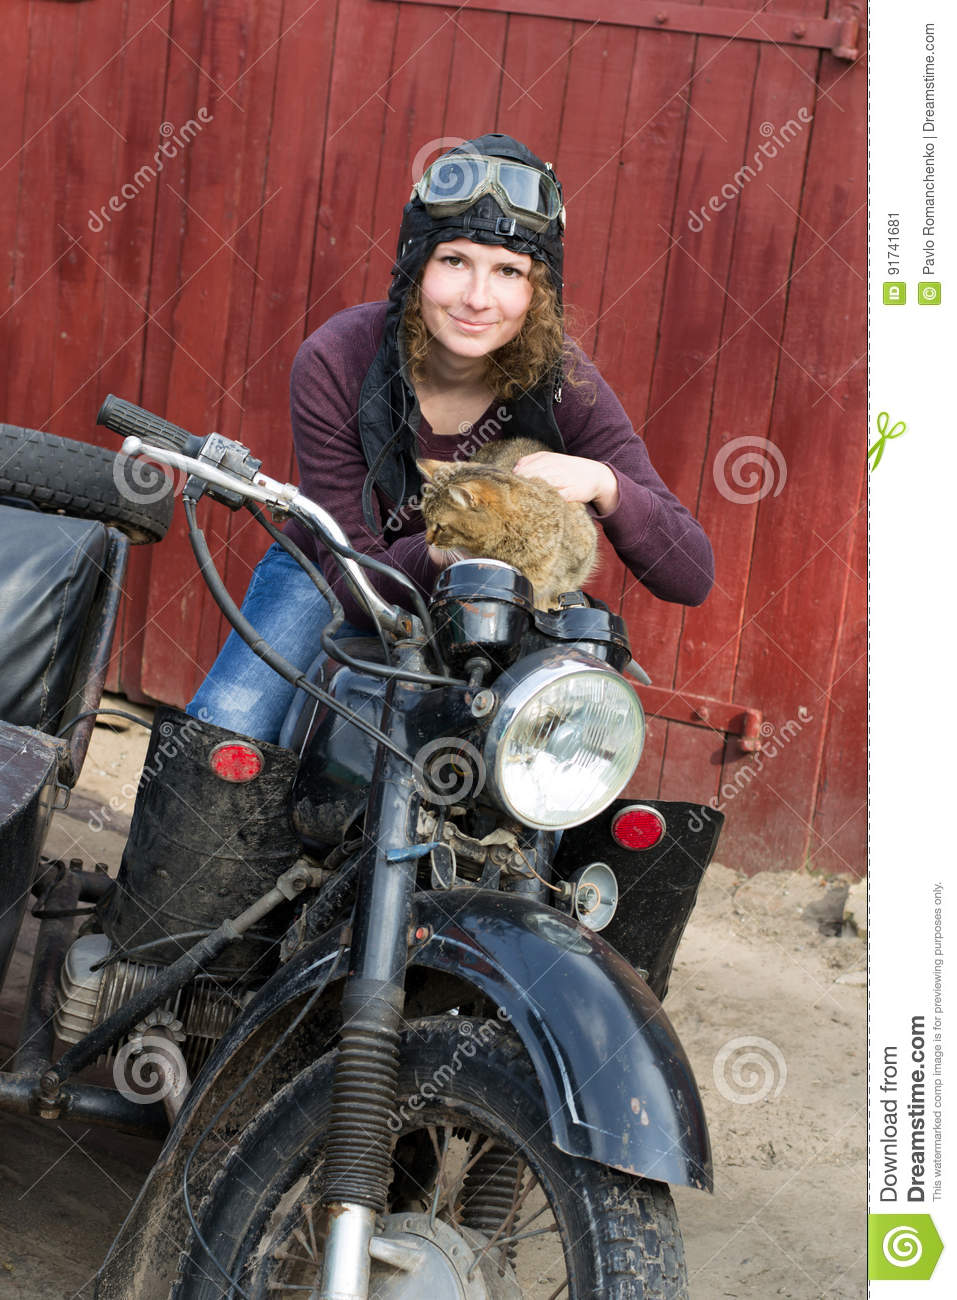helmet: (384, 133, 578, 327)
